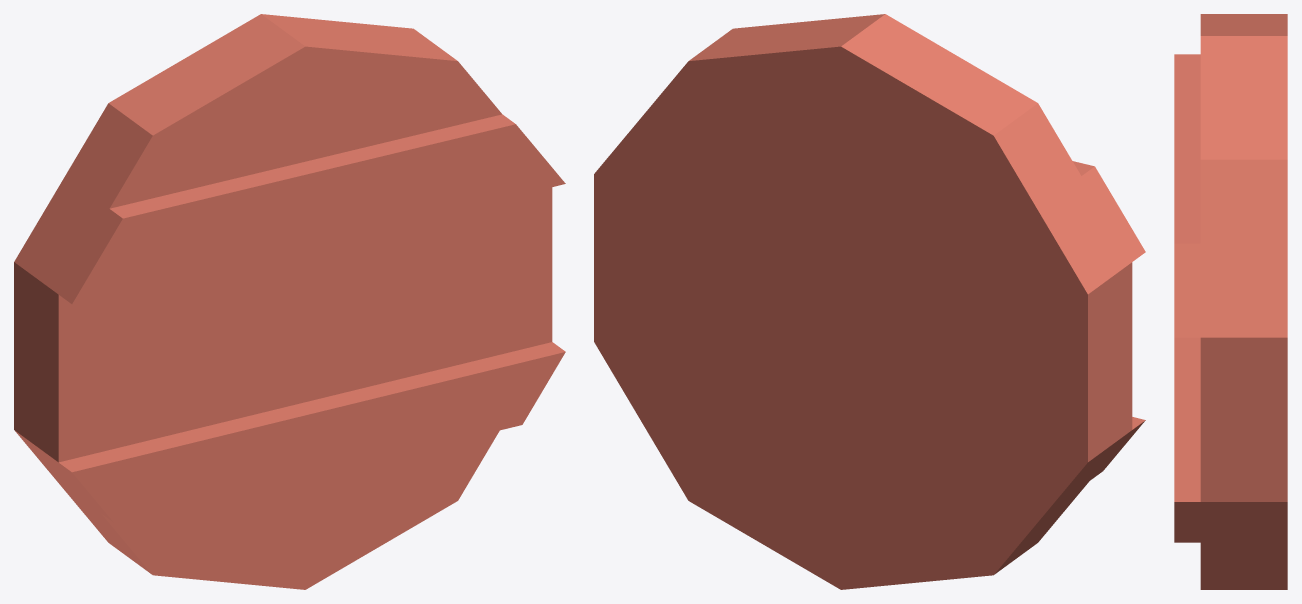
Rendered from SM_barrel_cap.fbx.
The picture shows the model from 3 angles, left to right: view 1: azimuth 30°, elevation 25°; view 2: azimuth 150°, elevation 25°; view 3: azimuth 270°, elevation 25°; orthographic projection. The views are drawn at different scales.
Parts seen in each view (by area): view 1: barrel.001; view 2: barrel.001; view 3: barrel.001.
Part boxes in pixels (x1,y1,x2,y2): barrel.001: (14,14,565,589); barrel.001: (594,14,1145,589); barrel.001: (1174,14,1287,589).
Bounding box in the file's own units: 48.22 × 50.7 × 9.8.
